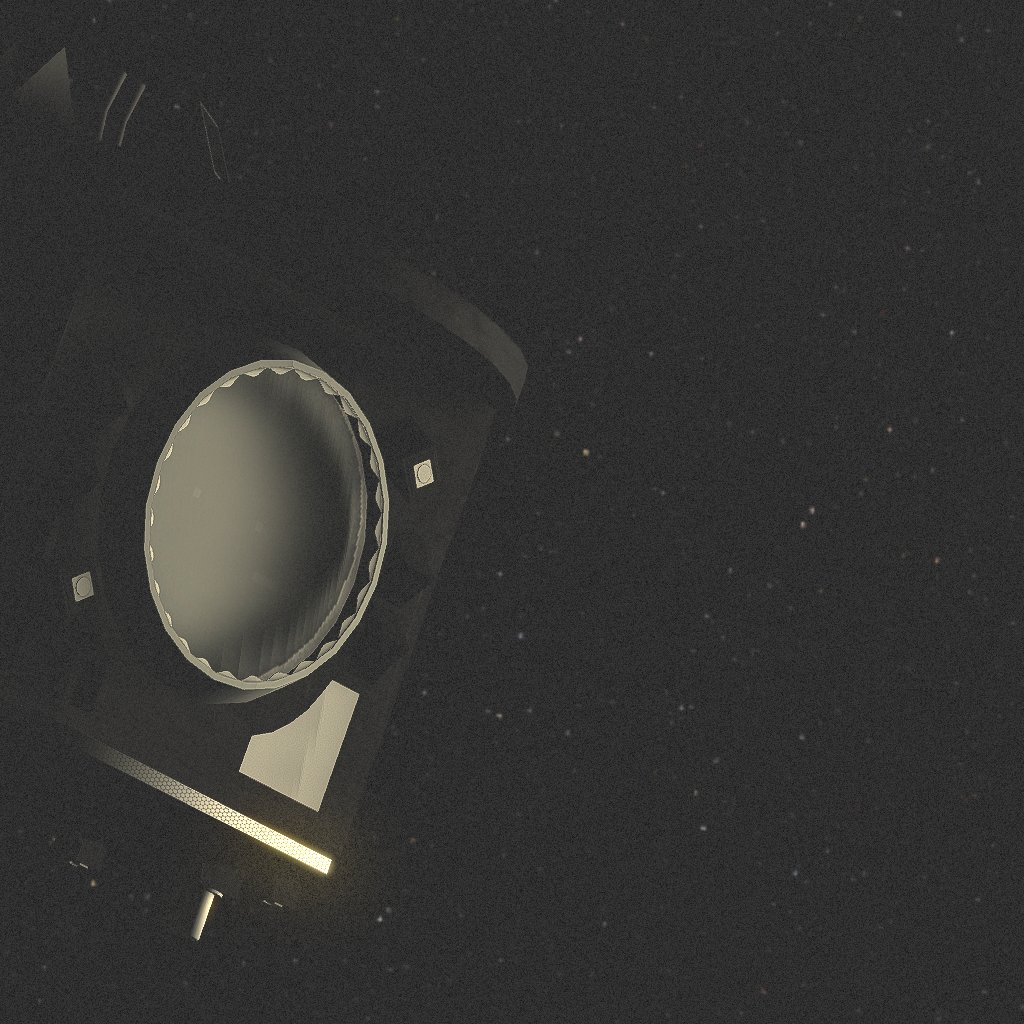proba_3_ocs: (0, 42, 528, 941)
